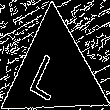L_NE: (32, 43, 76, 101)
